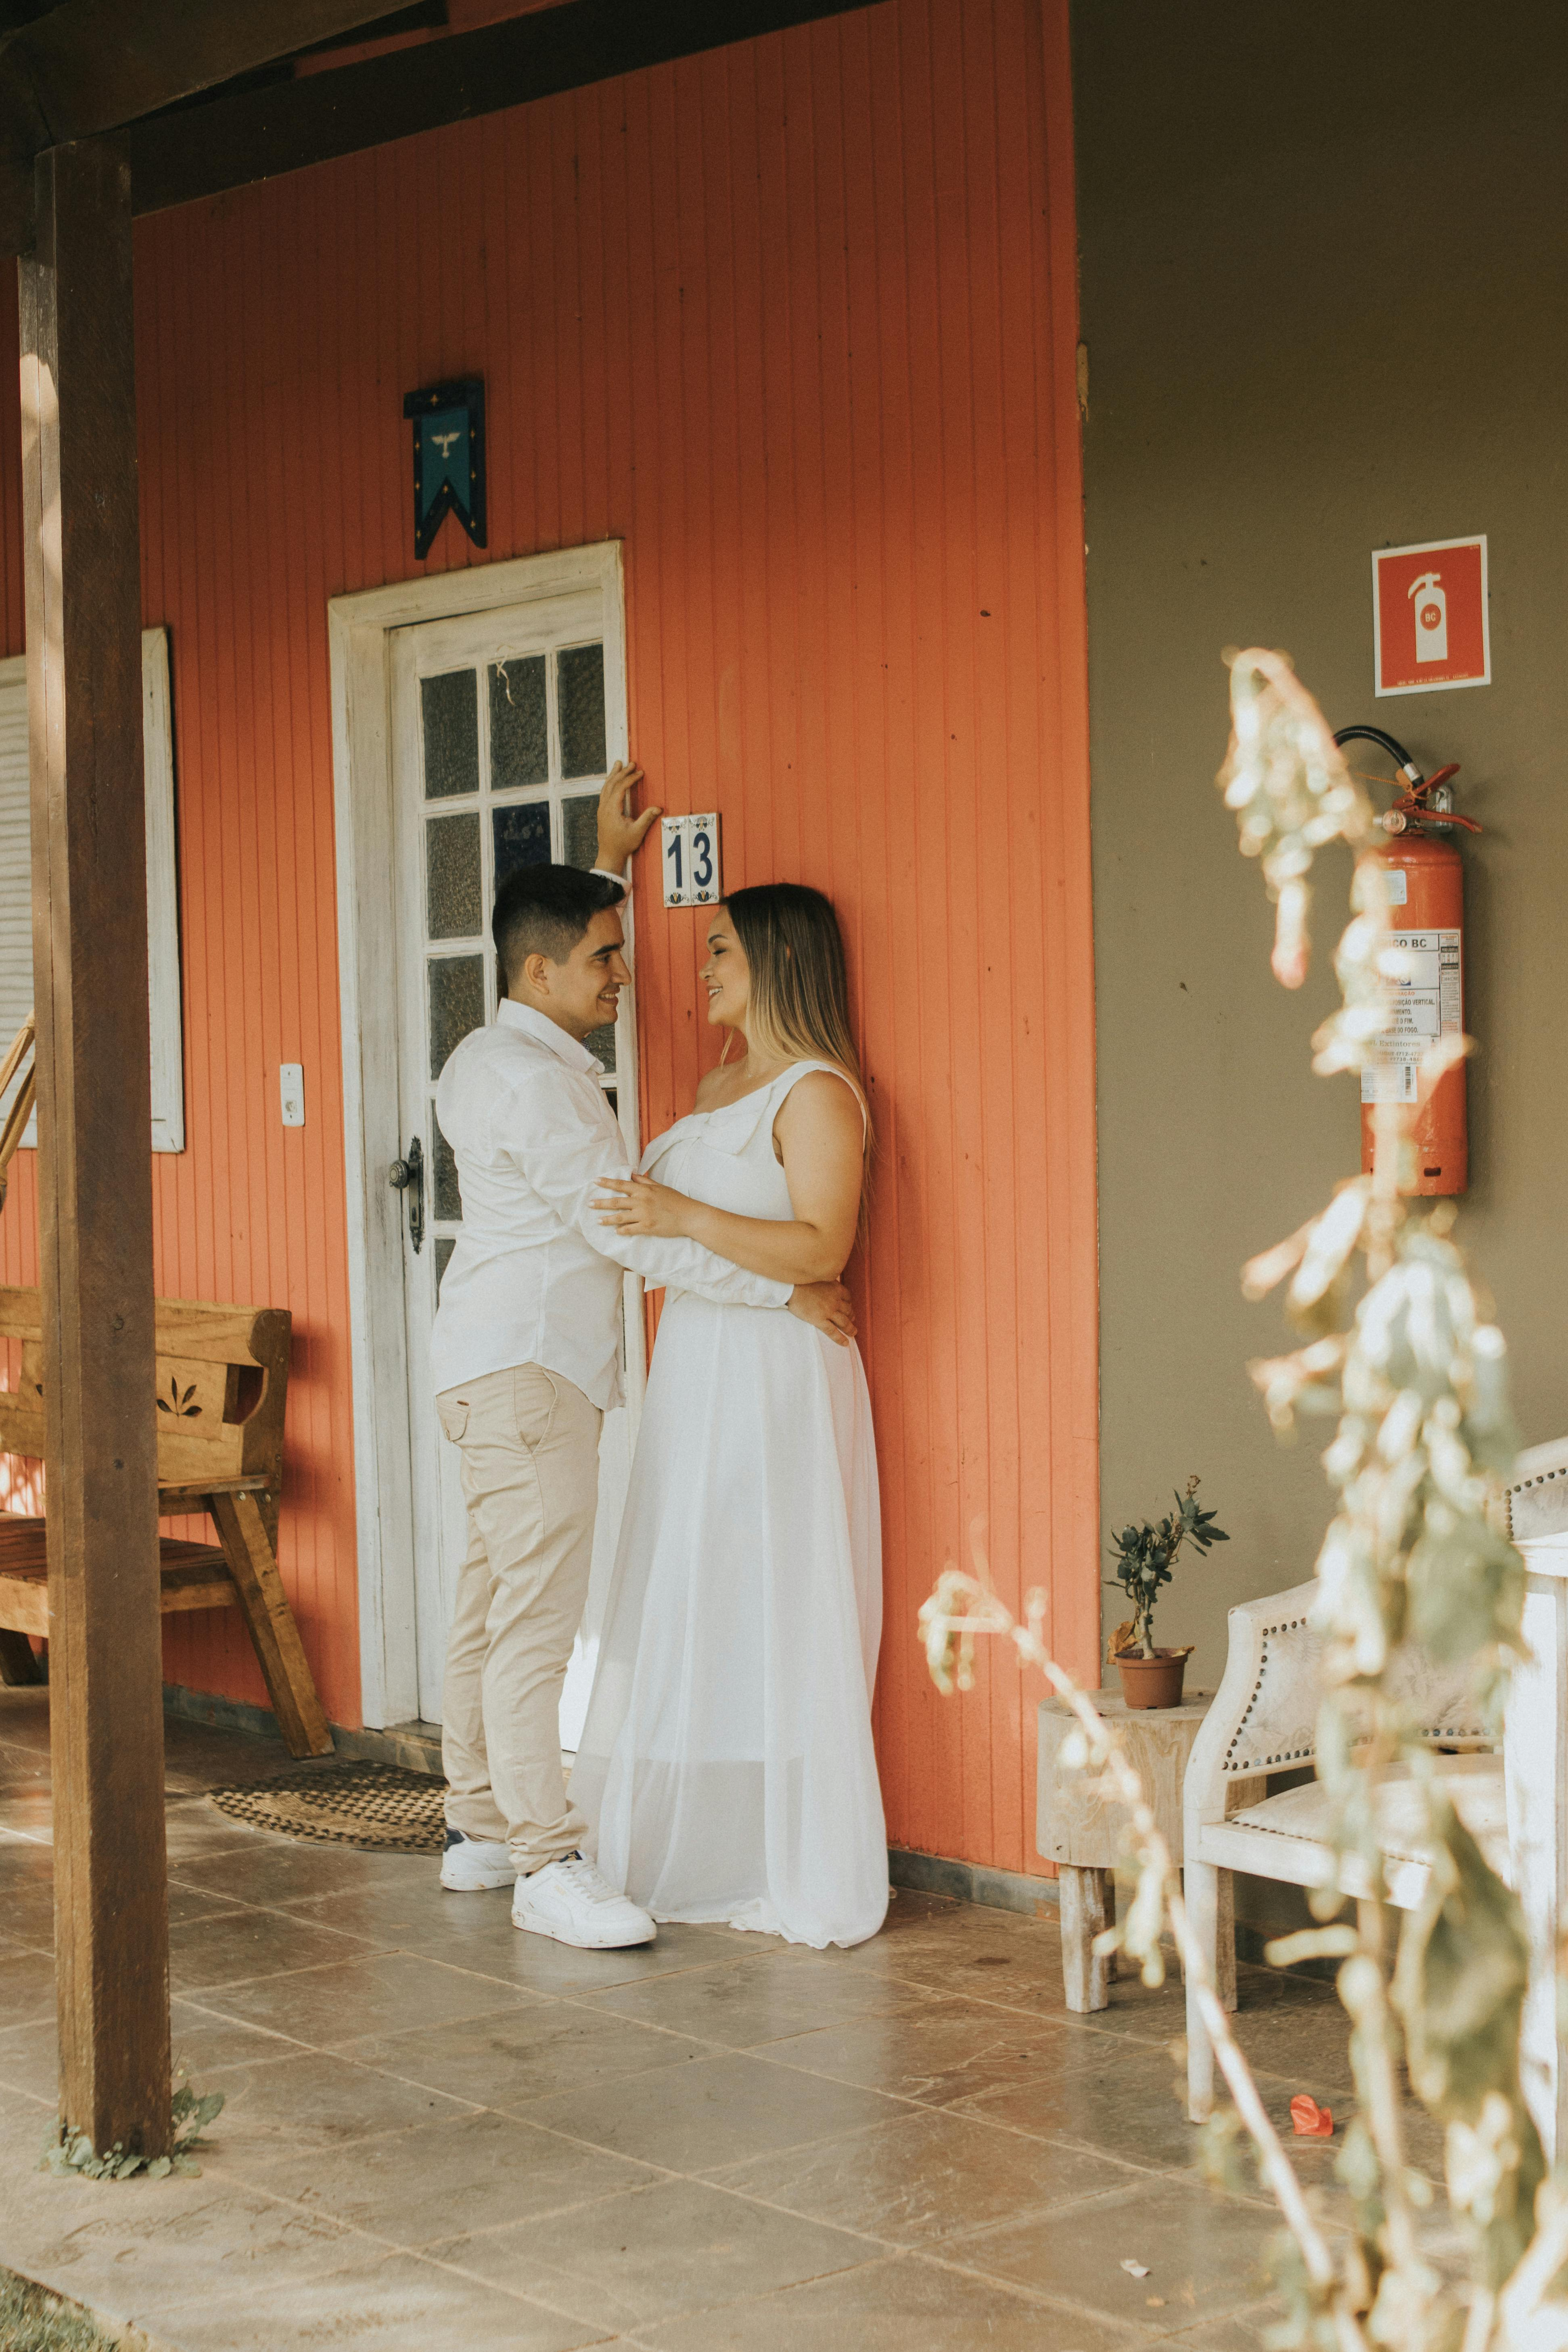extintor: (1349, 754, 1486, 1207)
